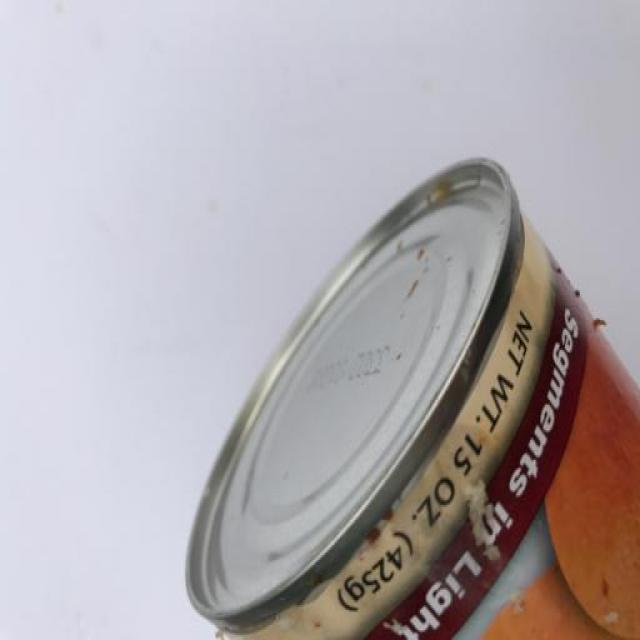metel: (158, 154, 640, 640)
